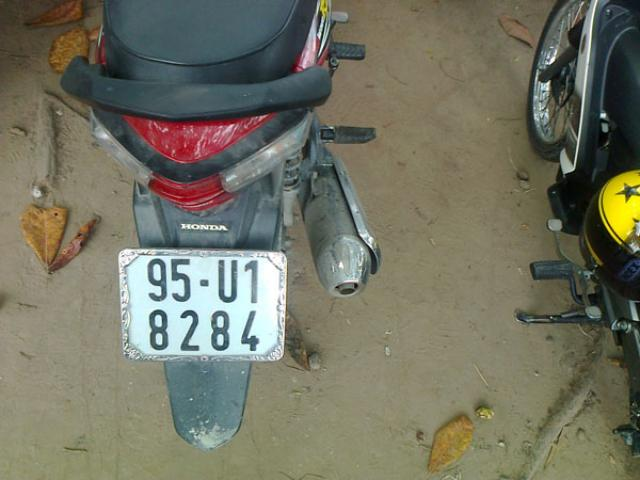plate: (120, 249, 288, 359)
